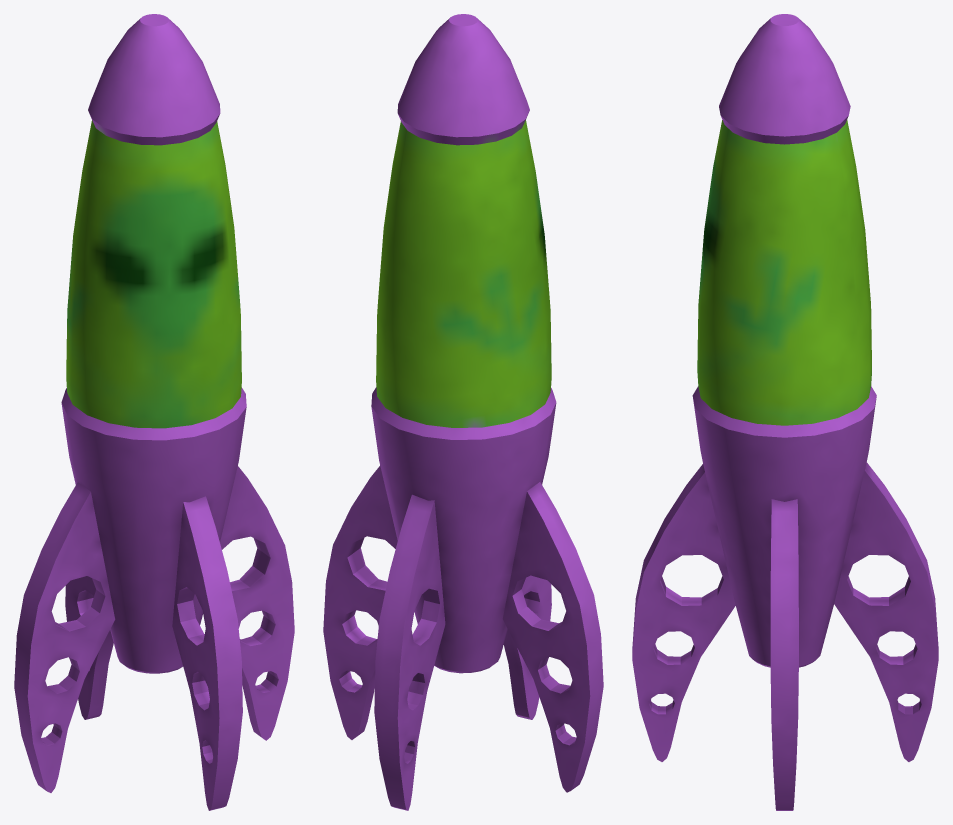
File: PROP_022_LavaLamp.fbx
3 views of the same model, side by side, from view 1: azimuth 30°, elevation 25°; view 2: azimuth 150°, elevation 25°; view 3: azimuth 270°, elevation 25° (orthographic).
Visible parts, largest first — view 1: Lava; view 2: Lava; view 3: Lava.
Boxes of the visible parts, x1=… form: Lava: x1=14, y1=14, x2=294, y2=810; Lava: x1=323, y1=14, x2=603, y2=810; Lava: x1=632, y1=14, x2=938, y2=810.
Size of the model in its own units: 0.1879 by 0.5 by 0.1879.
Materials: 1 (1 with a texture image).
